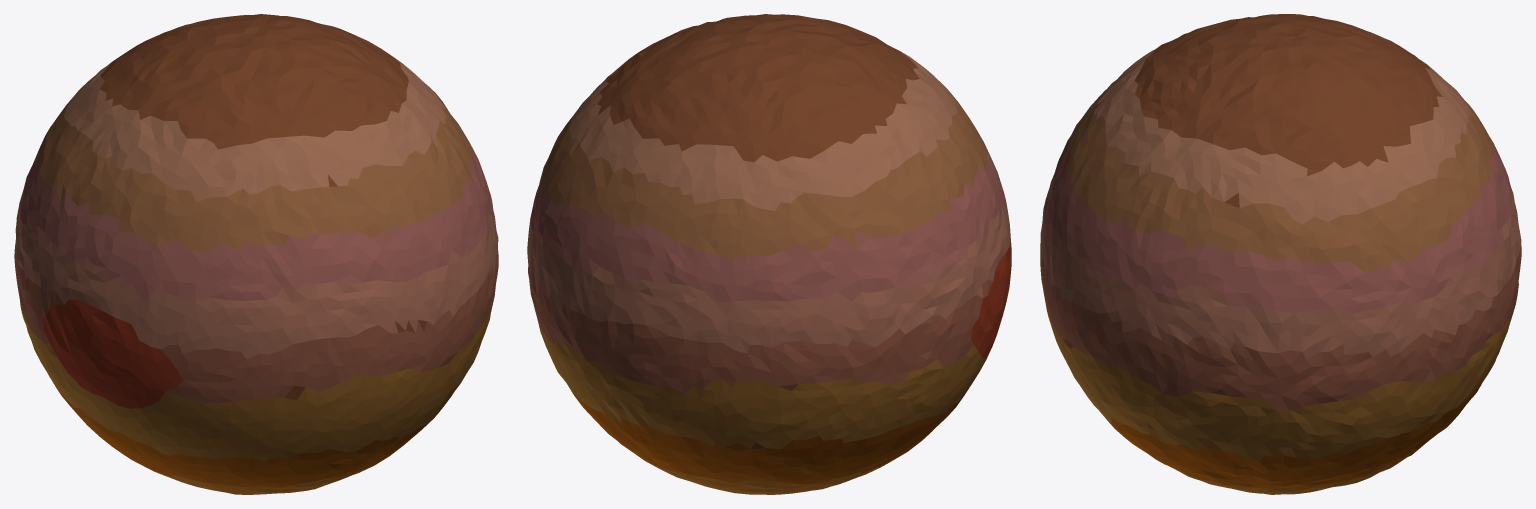
File: Jupiter2.gltf
3 renders of one model, left to right at view 1: azimuth 30°, elevation 25°; view 2: azimuth 150°, elevation 25°; view 3: azimuth 270°, elevation 25°, orthographic.
Parts seen in each view (by area): view 1: Icosphere; view 2: Icosphere; view 3: Icosphere.
Part boxes in pixels (left/top/right/bottom): Icosphere: left=14, top=14, right=498, bottom=494; Icosphere: left=527, top=14, right=1011, bottom=494; Icosphere: left=1040, top=14, right=1521, bottom=494.
Bounding box in the file's own units: 33.65 × 33.47 × 33.6.
